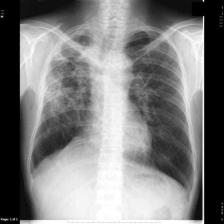tuberculosis: (27, 22, 195, 205)
